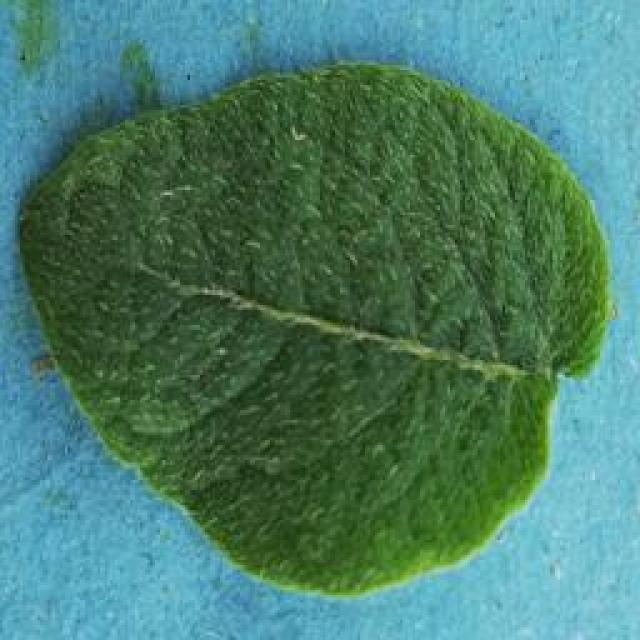Potato_Healthy: (20, 57, 610, 597)
